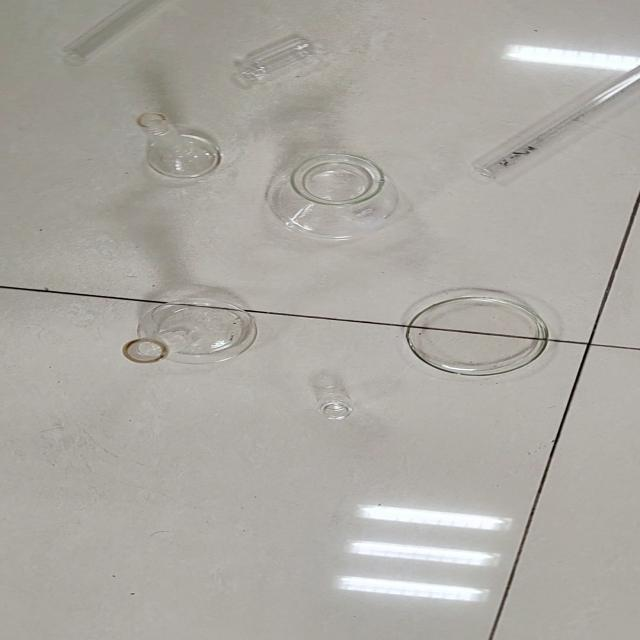cardboard: (0, 0, 639, 638)
cups: (266, 151, 399, 240), (133, 289, 257, 364), (136, 110, 221, 179), (308, 370, 352, 420)
